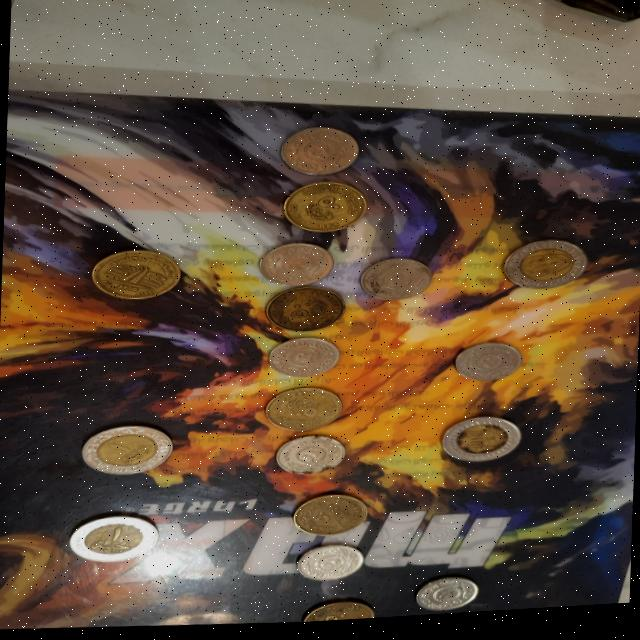Half Pound: (86, 244, 189, 310), (278, 176, 372, 243), (280, 488, 370, 547), (255, 284, 344, 343), (256, 387, 348, 440), (291, 593, 383, 626)
One Pound: (488, 238, 608, 303), (59, 504, 168, 573), (68, 421, 178, 482), (430, 412, 529, 473)
quarter pound: (246, 329, 358, 392), (240, 237, 350, 298), (258, 427, 362, 490), (276, 541, 383, 596), (348, 250, 438, 311), (279, 124, 362, 184), (438, 343, 528, 395), (401, 573, 496, 621)
